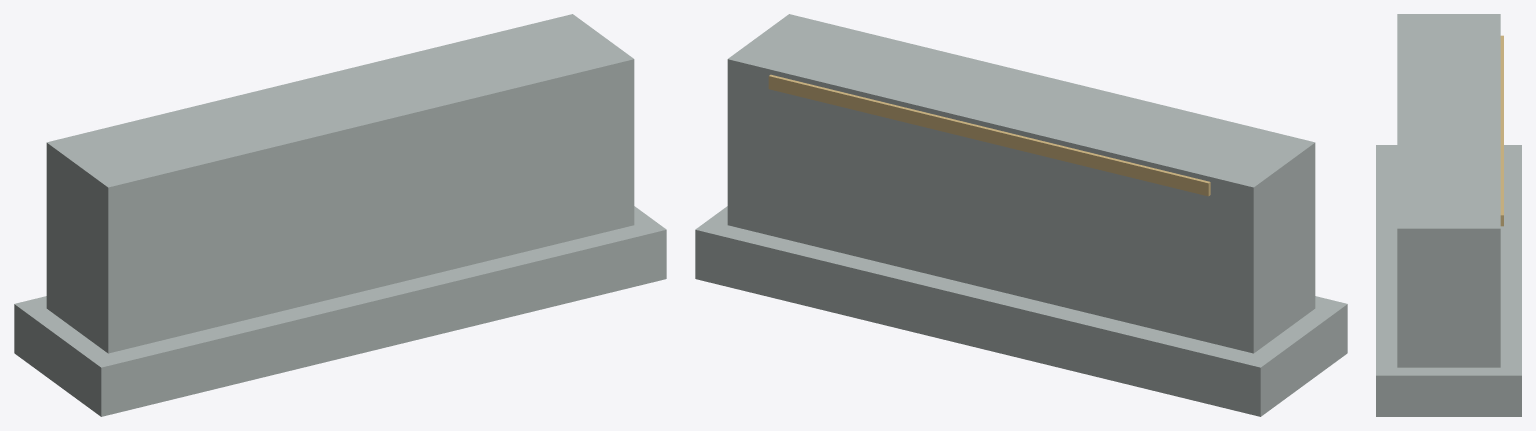
The model's file is DF_MOD_ConcreteBarrier.glb.
3 views of the same model, side by side, from view 1: azimuth 30°, elevation 25°; view 2: azimuth 150°, elevation 25°; view 3: azimuth 270°, elevation 25° (orthographic). The views are drawn at different scales.
Parts seen in each view (by area): view 1: Barrier, Curb; view 2: Barrier, Curb, Reflector; view 3: Barrier, Curb, Reflector.
Part boxes in pixels (<box>): Barrier: <box>46,14,634,353</box>; Curb: <box>14,206,666,416</box>; Barrier: <box>727,14,1315,353</box>; Curb: <box>695,206,1347,416</box>; Reflector: <box>768,74,1210,196</box>; Barrier: <box>1397,14,1500,367</box>; Curb: <box>1376,145,1521,416</box>; Reflector: <box>1500,35,1503,226</box>.
Size of the model in its own units: 3.6 by 1.31 by 0.96.
